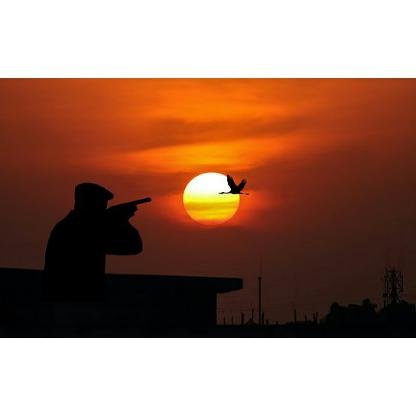gun: (104, 194, 152, 232)
